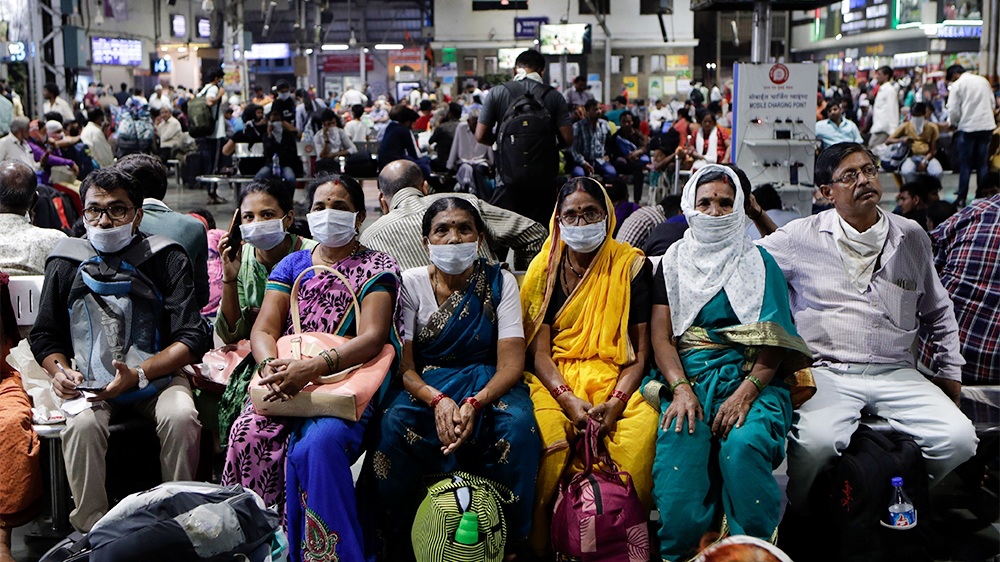mask_weared_incorrect: (421, 204, 481, 276), (81, 187, 145, 252)
with_mask: (307, 181, 364, 248), (554, 188, 611, 253), (239, 192, 293, 248)
without_mask: (818, 147, 885, 214)
